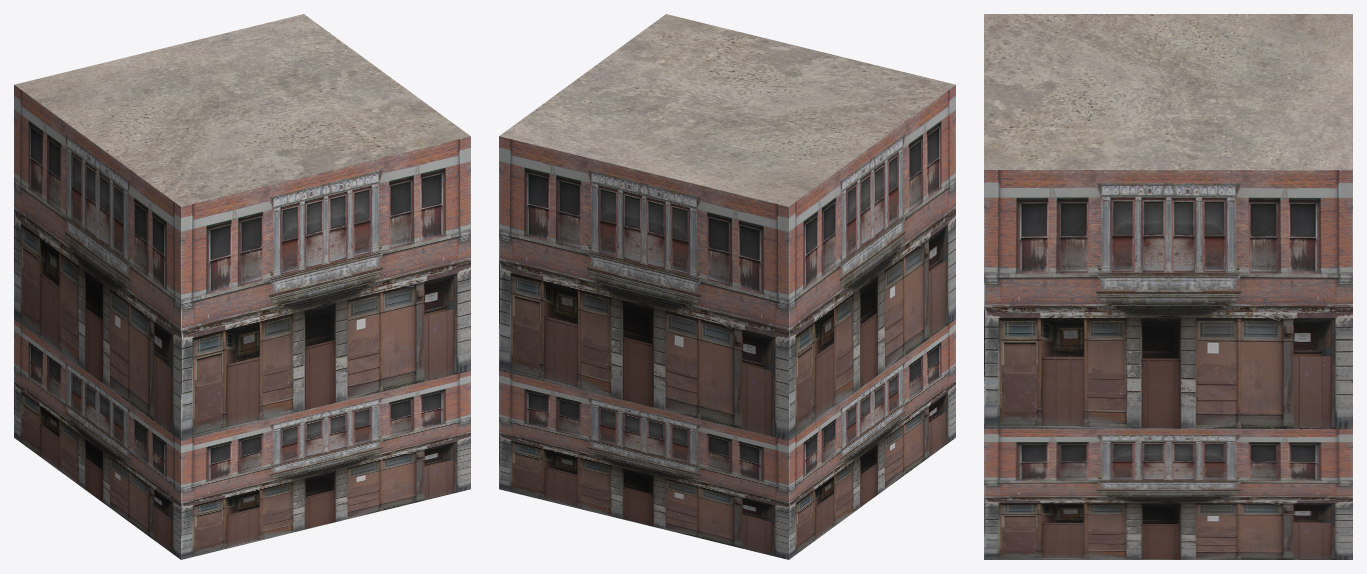
The model's file is BagBuilding7_0.fbx.
3 renders of one model, left to right at view 1: azimuth 30°, elevation 25°; view 2: azimuth 150°, elevation 25°; view 3: azimuth 270°, elevation 25°, orthographic. The views are drawn at different scales.
Parts seen in each view (by area): view 1: Box0, BoxA0, roof0; view 2: Box0, BoxA0, roof0; view 3: Box0, roof0, BoxA0.
Boxes of the visible parts, bbox=[...] form: Box0: bbox=[14, 85, 470, 440]; BoxA0: bbox=[14, 319, 470, 559]; roof0: bbox=[14, 14, 470, 206]; Box0: bbox=[499, 85, 955, 440]; BoxA0: bbox=[499, 319, 955, 559]; roof0: bbox=[499, 14, 955, 206]; Box0: bbox=[984, 170, 1352, 429]; roof0: bbox=[984, 14, 1352, 169]; BoxA0: bbox=[984, 428, 1352, 559].
Bounding box in the file's own units: 19.12 × 22.25 × 19.08.
